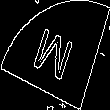M_S: (31, 23, 79, 87)
